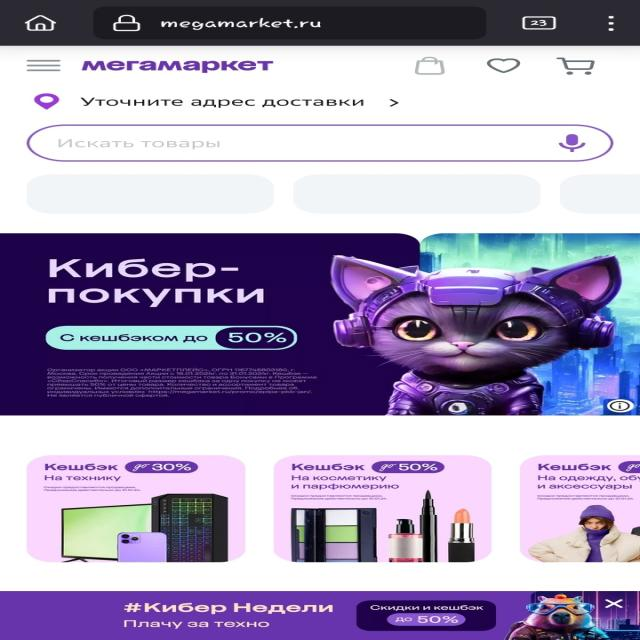button: (602, 598, 628, 610)
site: (0, 591, 640, 639)
